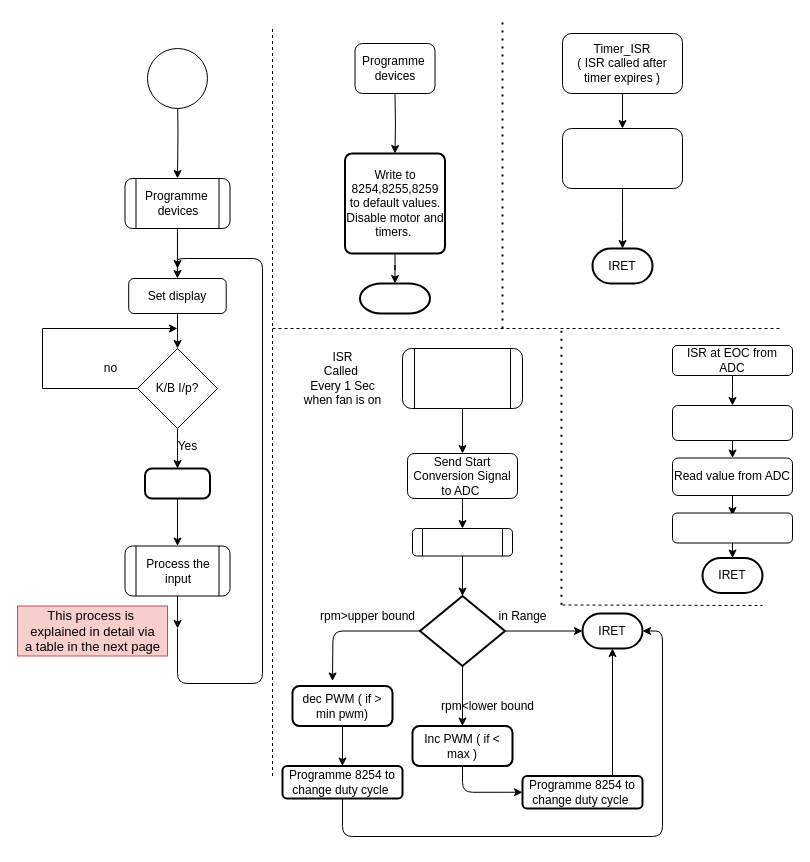
Some shapes in this 810 by 862 pixel diagram are drawn without their labels. Each missing label, with the box of its shape:
Compare Target and Current: (418, 594, 506, 666)
Convert reading to RPM: (672, 512, 792, 543)
Disable Timers, Motor, Counters. Set mode to Off: (562, 128, 682, 188)
Resume: (358, 282, 430, 314)
save kb input: (144, 467, 210, 499)
Send control signals to read data: (672, 404, 792, 440)
Speed Sense & Controls: (402, 348, 522, 408)
STARTUP: (146, 48, 208, 108)
Wait for Interrupt: (412, 528, 512, 556)
